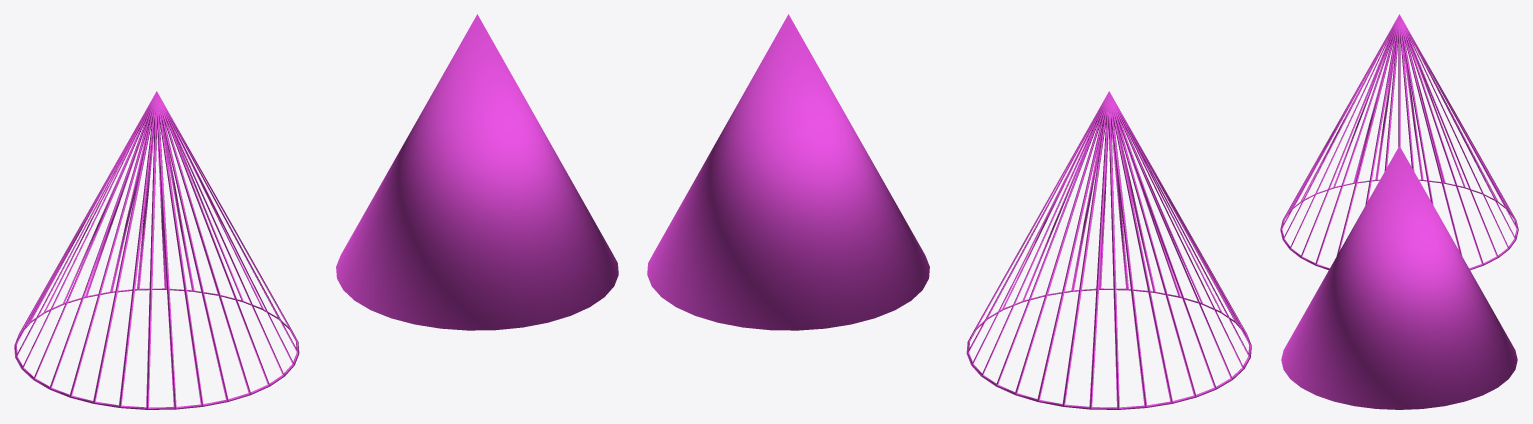
The model's file is Kerucut Siap.fbx.
3 views of the same model, side by side, from view 1: azimuth 30°, elevation 25°; view 2: azimuth 150°, elevation 25°; view 3: azimuth 270°, elevation 25° (orthographic). The views are drawn at different scales.
Visible parts, largest first — view 1: Cone, Cone.001; view 2: Cone, Cone.001; view 3: Cone, Cone.001.
Boxes of the visible parts, x1=… form: Cone: x1=336, y1=14, x2=618, y2=330; Cone.001: x1=14, y1=91, x2=299, y2=409; Cone: x1=647, y1=14, x2=929, y2=330; Cone.001: x1=966, y1=91, x2=1251, y2=409; Cone: x1=1281, y1=146, x2=1517, y2=409; Cone.001: x1=1280, y1=14, x2=1518, y2=270.
Bounding box in the file's own units: 993 × 433 × 434.
